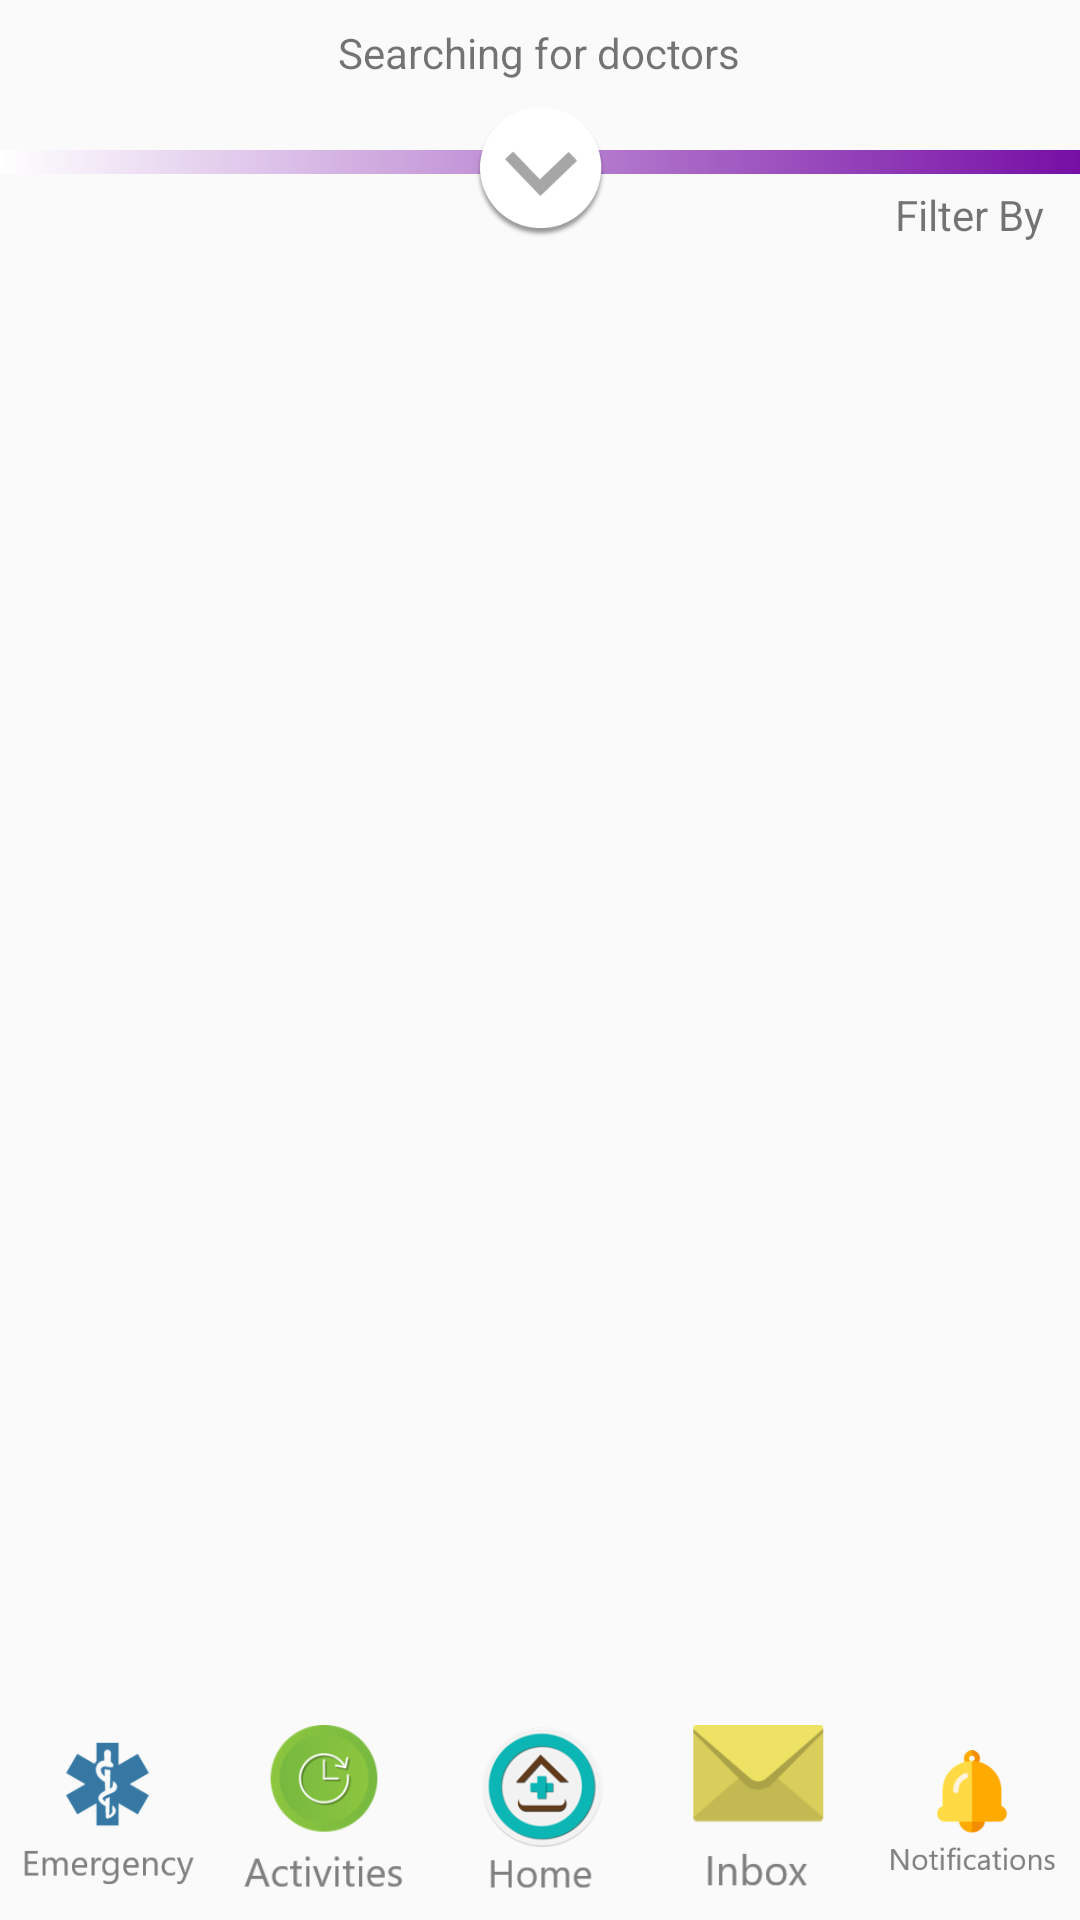

Icon bounding boxes for this 1080px×1920px phone screenshot, format (x1,y1,x2,y2):
custom down arrow: (473,150,608,235)
